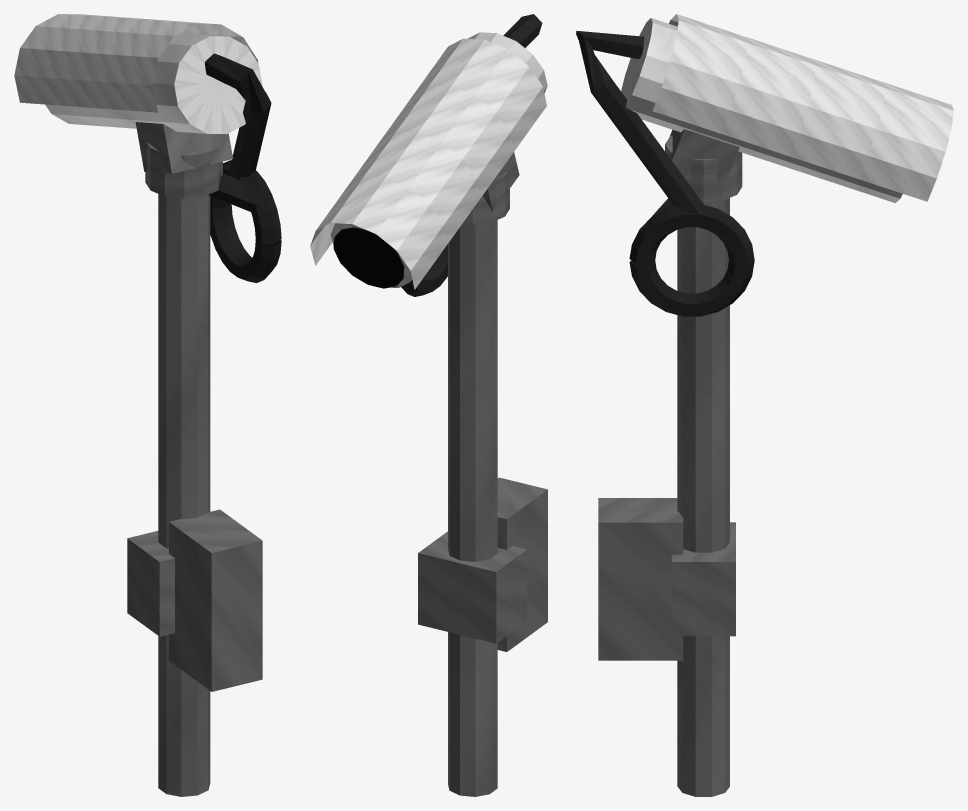
Rendered from trafficpolecamera_short_inv.obj.
The picture shows the model from 3 angles, left to right: view 1: azimuth 30°, elevation 25°; view 2: azimuth 150°, elevation 25°; view 3: azimuth 270°, elevation 25°; orthographic projection. The views are drawn at different scales.
Visible parts, largest first — view 1: miovision360; view 2: miovision360; view 3: miovision360.
Part boxes in pixels (x1,y1,x2,y2): miovision360: (14, 14, 281, 796); miovision360: (310, 14, 547, 796); miovision360: (576, 14, 953, 796).
Size of the model in its own units: 0.227 by 1.44 by 0.6453.
